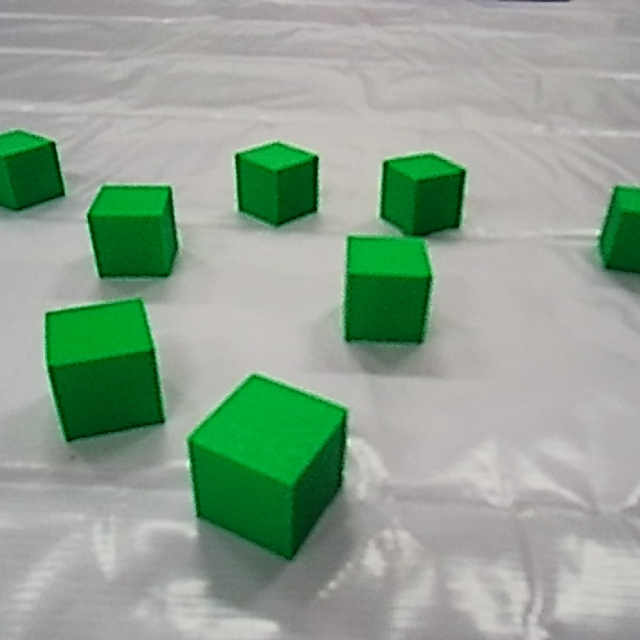green: (179, 366, 356, 563), (37, 293, 168, 444), (337, 224, 437, 349), (83, 178, 183, 282), (229, 134, 325, 228), (376, 146, 469, 241), (2, 124, 75, 220)
